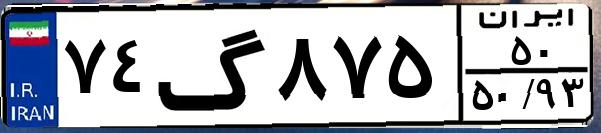0: (537, 27, 568, 80), (495, 70, 520, 125)
3: (560, 70, 590, 125)
4: (110, 28, 156, 98)
5: (385, 28, 445, 110), (508, 27, 537, 80), (470, 70, 495, 125)
7: (330, 28, 385, 110), (57, 26, 110, 100)
8: (270, 28, 330, 110)
9: (535, 70, 560, 125)
گ: (156, 12, 270, 120)
